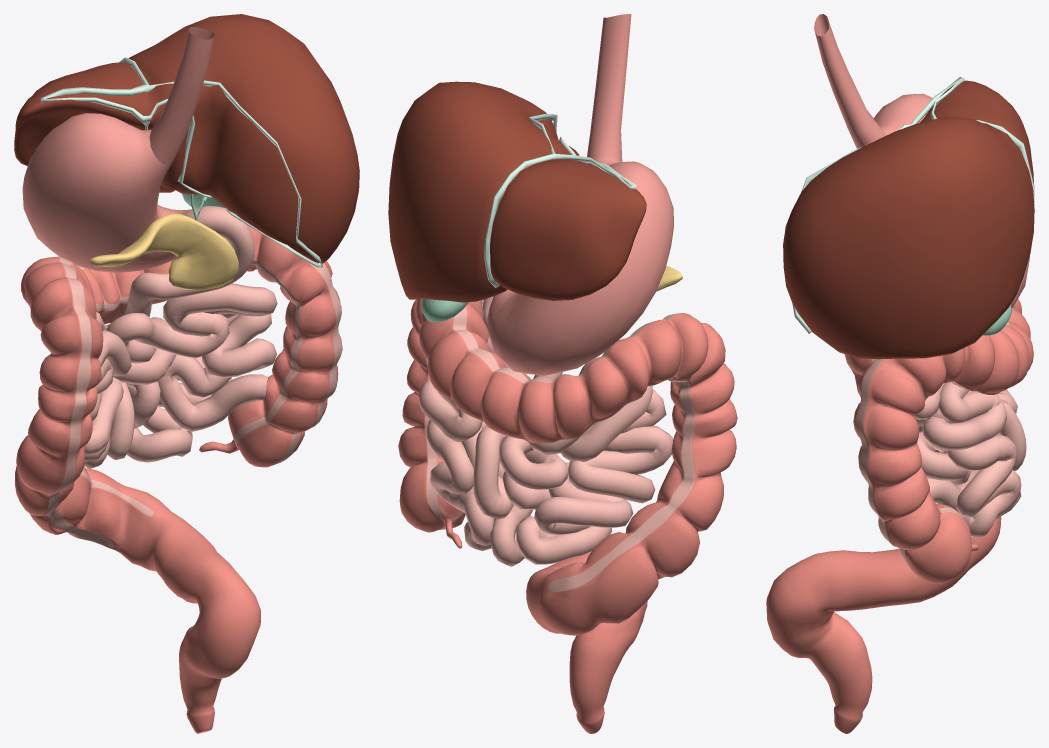
Rendered from stomach.fbx.
The picture shows the model from 3 angles, left to right: view 1: azimuth 30°, elevation 25°; view 2: azimuth 150°, elevation 25°; view 3: azimuth 270°, elevation 25°; orthographic projection.
Parts seen in each view (by area): view 1: Colon, Liver, Small_intestine, Stomach, Pancreas, Esophagus, Duodenum, Liver_ligaments; view 2: Colon, Liver, Small_intestine, Stomach, Esophagus, Liver_ligaments, Gallbladder; view 3: Liver, Colon, Small_intestine, Esophagus, Stomach, Liver_ligaments.
Boxes of the visible parts, <box> form: Colon: <box>15,225,342,733</box>; Liver: <box>14,14,359,263</box>; Small_intestine: <box>84,283,277,469</box>; Stomach: <box>22,113,191,272</box>; Pancreas: <box>90,213,238,290</box>; Esophagus: <box>149,27,214,164</box>; Duodenum: <box>129,206,254,308</box>; Liver_ligaments: <box>40,57,322,267</box>; Colon: <box>398,298,737,733</box>; Liver: <box>388,81,646,302</box>; Small_intestine: <box>419,336,672,566</box>; Stomach: <box>487,157,673,375</box>; Esophagus: <box>587,14,631,161</box>; Liver_ligaments: <box>484,114,636,287</box>; Gallbladder: <box>421,298,468,322</box>; Liver: <box>783,80,1034,359</box>; Colon: <box>766,299,1033,733</box>; Small_intestine: <box>915,382,1026,537</box>; Esophagus: <box>814,14,886,148</box>; Stomach: <box>874,93,1029,308</box>; Liver_ligaments: <box>792,77,1034,333</box>.
Bounding box in the file's own units: 774 × 1694 × 583.
